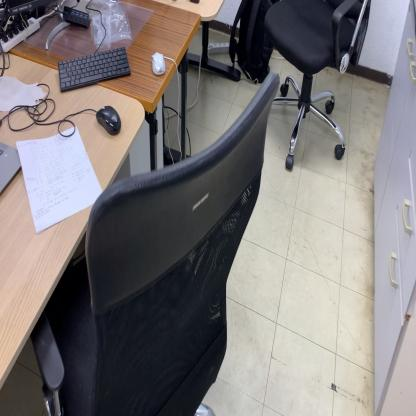chair: (31, 72, 282, 416), (254, 0, 373, 173)
